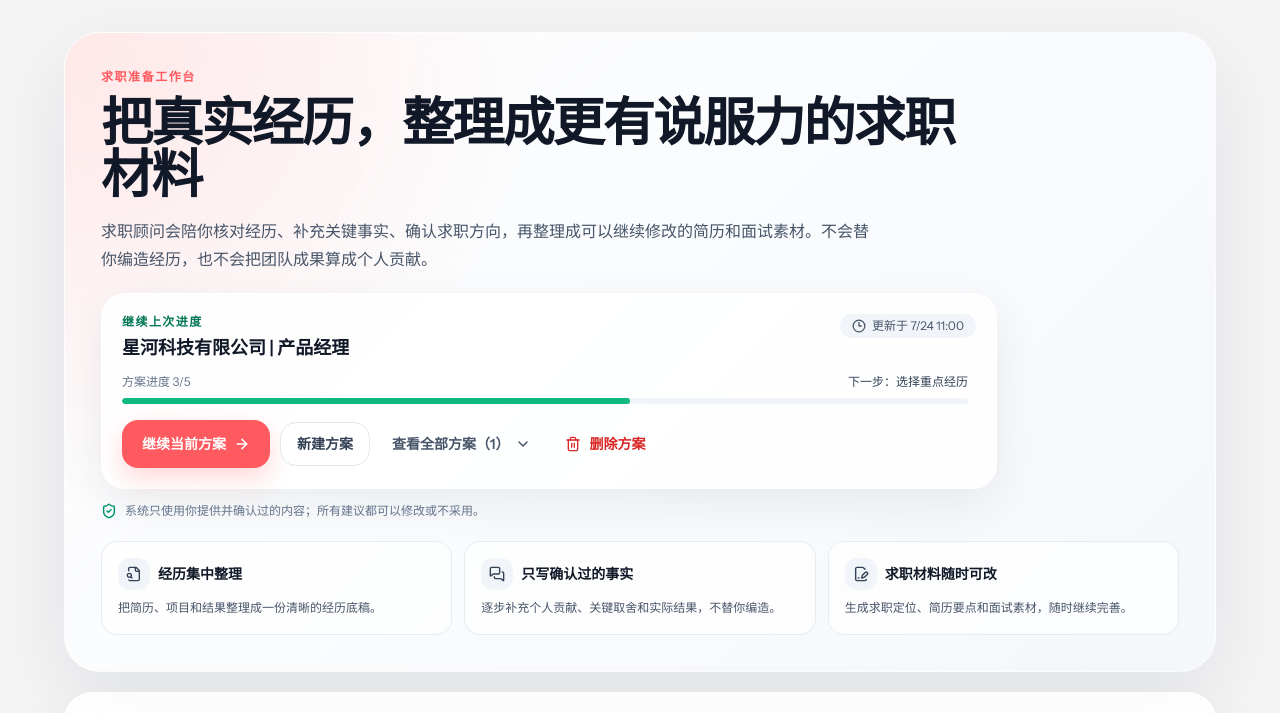
App › confirms before deleting the current draft and refreshes the cover
The image size is (1280, 713).
Click the button "删除方案" at (605, 444), box [553, 422, 657, 466]
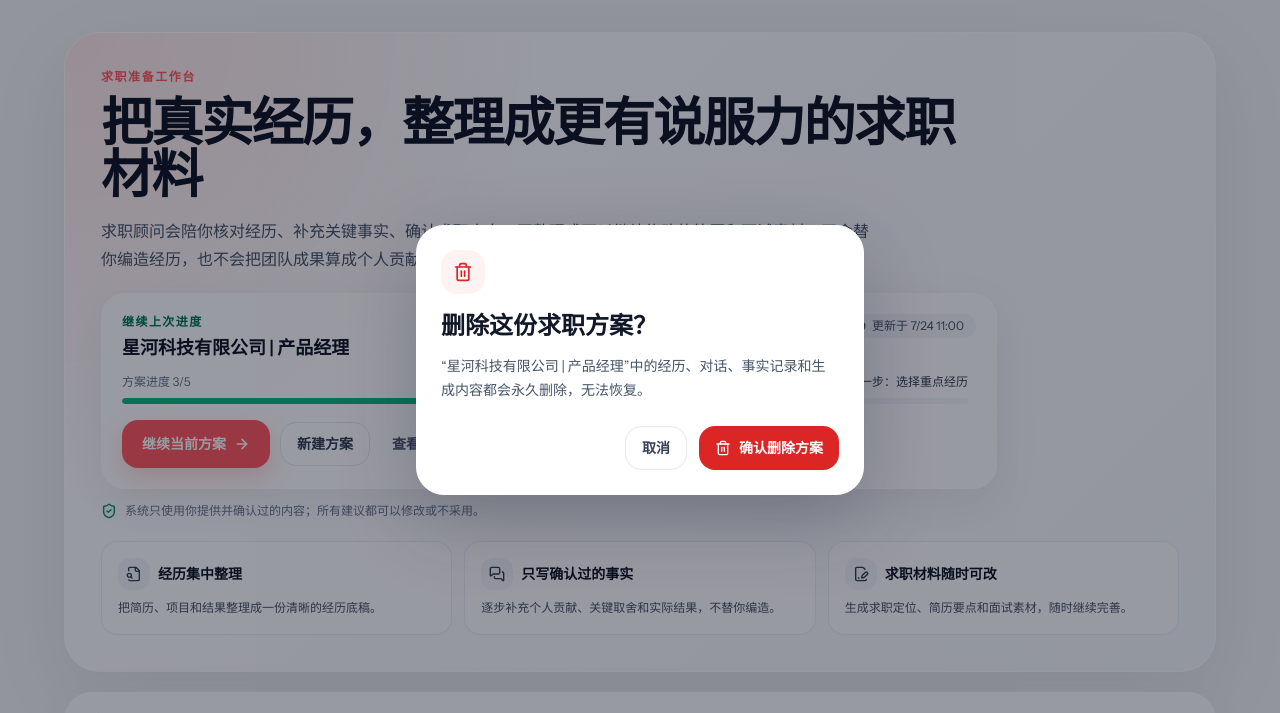
Expected: the dialog "删除这份求职方案？" is shown, [416, 225, 864, 495]
Expected: the text "“星河科技有限公司 | 产品经理”中的经历、对话、事实记录和生成内容都会永久删除，无法恢复。" is shown, [441, 354, 839, 402]
Click the button "确认删除方案" at (769, 448), box [699, 426, 839, 470]
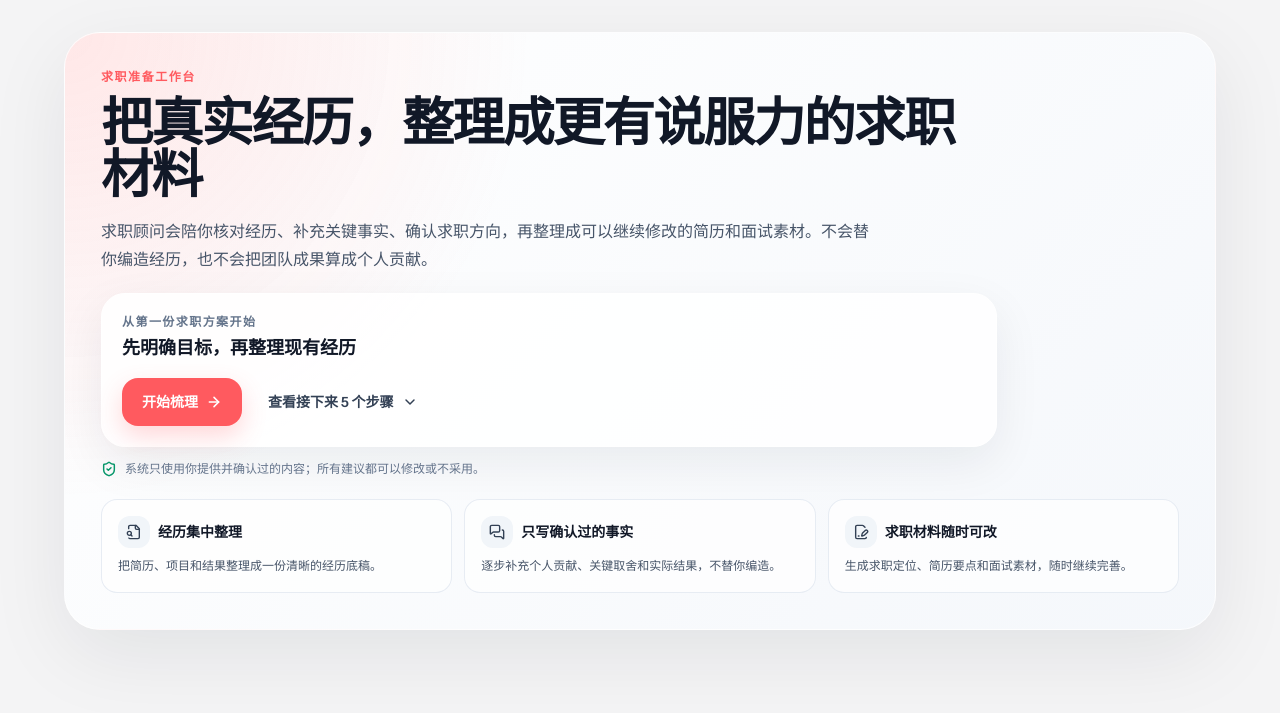
Expected: the button "开始梳理" is shown, [122, 378, 242, 426]
